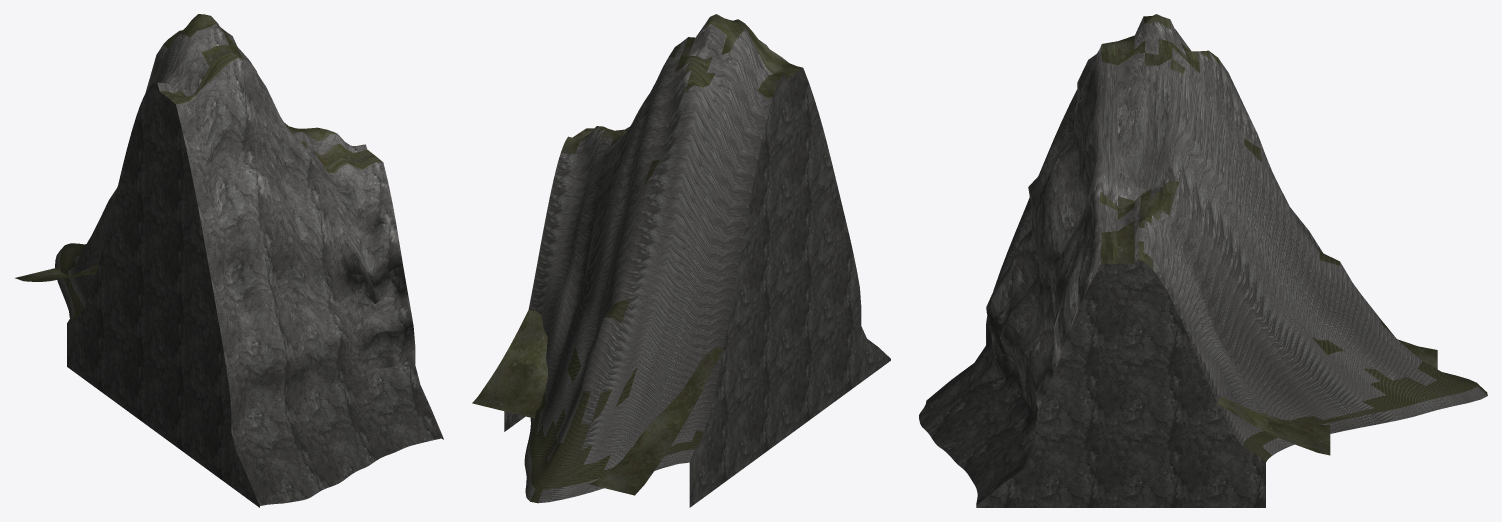
Rendered from seacliff_step_h8h5_v5_summer.glb.
3 views of the same model, side by side, from view 1: azimuth 30°, elevation 25°; view 2: azimuth 150°, elevation 25°; view 3: azimuth 270°, elevation 25° (orthographic). The views are drawn at different scales.
Visible parts, largest first — view 1: seacliff_step_h8h5; view 2: seacliff_step_h8h5; view 3: seacliff_step_h8h5.
Boxes of the visible parts, x1,y1,x2,y2 form: seacliff_step_h8h5: (15, 14, 443, 507); seacliff_step_h8h5: (472, 14, 890, 507); seacliff_step_h8h5: (919, 14, 1487, 507).
Bounding box in the file's own units: 6 × 11.02 × 13.67.
2 materials, 2 textured.
